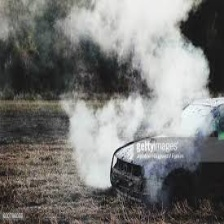smoke: (59, 7, 208, 168)
